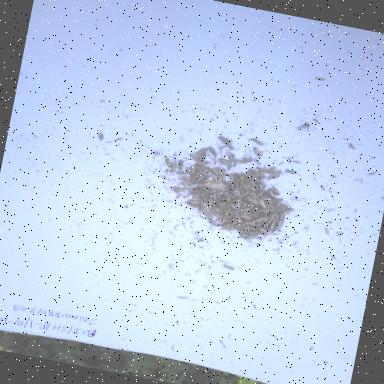pbw: (244, 176, 260, 192), (196, 206, 215, 218), (243, 182, 259, 194), (180, 176, 196, 188), (204, 217, 220, 229), (195, 145, 209, 158), (231, 214, 246, 226), (250, 137, 266, 148), (250, 206, 266, 217), (254, 214, 270, 225), (232, 156, 249, 166), (220, 262, 237, 272), (219, 158, 236, 168), (252, 228, 269, 238), (245, 231, 259, 243), (252, 146, 266, 158), (269, 196, 284, 207), (260, 197, 278, 206), (256, 166, 274, 175), (272, 210, 282, 226), (246, 198, 262, 208), (274, 218, 284, 234), (236, 173, 248, 186), (162, 157, 174, 170), (226, 208, 237, 222), (255, 169, 269, 180), (209, 209, 223, 220), (217, 178, 232, 188), (206, 146, 218, 158), (186, 199, 202, 208), (224, 171, 240, 180), (232, 186, 244, 198), (284, 167, 300, 176), (266, 210, 278, 222), (269, 186, 282, 197), (240, 154, 254, 164), (176, 168, 190, 178), (230, 220, 240, 234), (173, 184, 187, 194), (198, 158, 212, 168), (238, 226, 248, 240), (216, 134, 230, 144), (250, 194, 264, 204), (240, 224, 252, 235), (246, 168, 258, 179), (188, 153, 200, 164), (216, 199, 227, 211), (228, 202, 240, 213), (226, 182, 237, 194), (318, 181, 329, 193), (255, 186, 266, 198), (250, 170, 263, 180), (211, 172, 224, 182), (96, 129, 106, 142), (176, 158, 186, 171), (211, 170, 227, 178), (220, 225, 236, 233), (234, 221, 246, 231), (240, 198, 252, 208), (265, 189, 277, 199), (282, 206, 294, 216), (240, 213, 254, 221), (214, 166, 228, 174), (197, 188, 211, 196), (188, 162, 196, 176), (190, 196, 204, 204), (170, 158, 178, 172), (240, 188, 250, 199), (196, 153, 207, 163), (204, 196, 214, 207), (220, 208, 230, 219), (196, 173, 206, 184), (194, 165, 203, 177), (256, 179, 268, 188), (323, 226, 332, 238), (252, 157, 264, 166), (238, 182, 251, 190), (290, 158, 303, 166), (190, 174, 200, 184), (200, 167, 210, 177), (258, 198, 268, 208), (246, 225, 260, 232), (216, 217, 228, 225), (266, 202, 278, 210), (243, 219, 256, 226), (262, 206, 272, 215), (198, 186, 213, 192), (210, 192, 219, 202), (271, 206, 282, 214), (225, 142, 236, 150), (223, 221, 234, 229), (239, 206, 250, 214), (185, 187, 193, 198), (265, 218, 273, 229), (192, 192, 203, 200), (224, 192, 232, 202), (242, 194, 252, 202), (200, 204, 213, 210), (230, 198, 243, 204), (280, 202, 291, 209), (228, 152, 234, 164), (206, 168, 213, 178), (228, 178, 236, 186), (278, 212, 286, 220), (215, 192, 222, 200), (270, 222, 276, 231), (224, 186, 230, 193)
